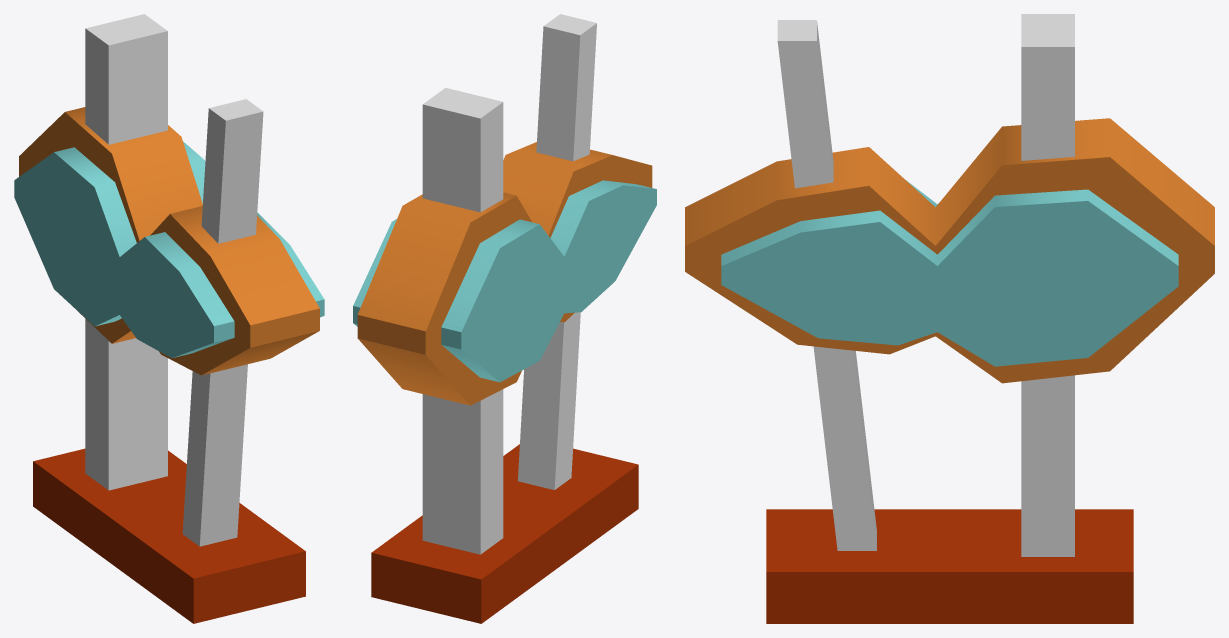
Rendered from LobbySculp2.fbx.
3 views of the same model, side by side, from view 1: azimuth 30°, elevation 25°; view 2: azimuth 150°, elevation 25°; view 3: azimuth 270°, elevation 25° (orthographic). The views are drawn at different scales.
Visible parts, largest first — view 1: LobbySculp2; view 2: LobbySculp2; view 3: LobbySculp2.
Part boxes in pixels (<box>): LobbySculp2: <box>14,14,324,623</box>; LobbySculp2: <box>353,14,656,623</box>; LobbySculp2: <box>685,14,1214,623</box>.
Size of the model in its own units: 1 by 4.17 by 3.57.
